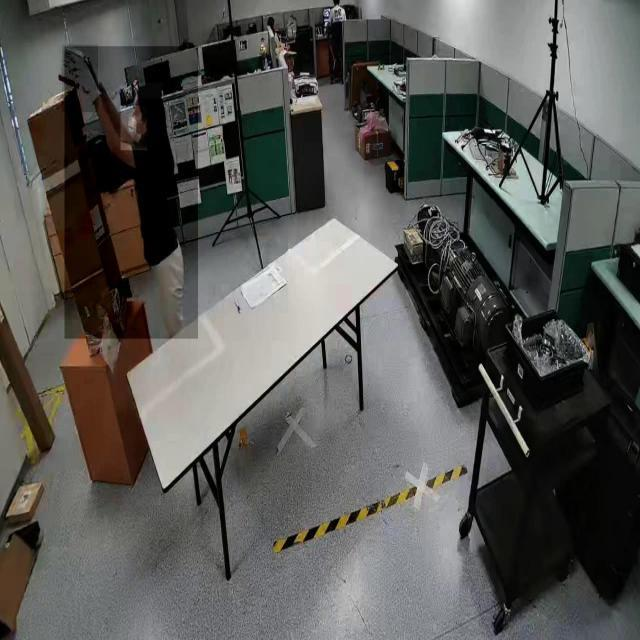gloves: (62, 44, 98, 112)
